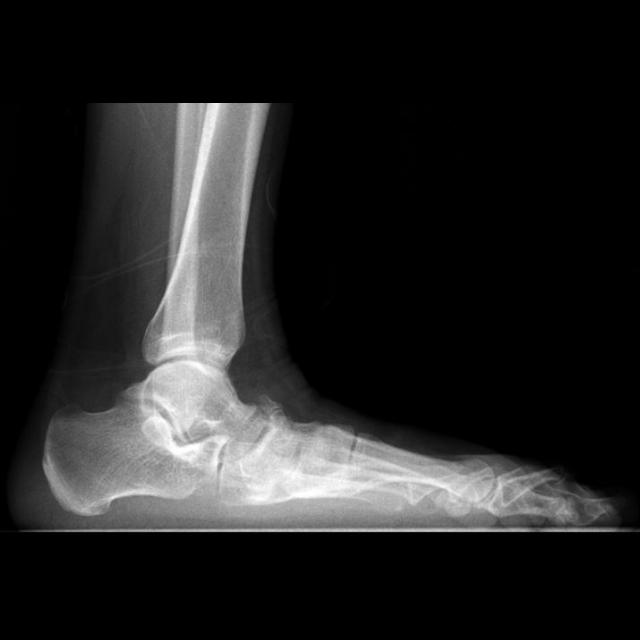a: (42, 384, 227, 515)
b: (239, 412, 302, 493)
c: (343, 433, 494, 504)
